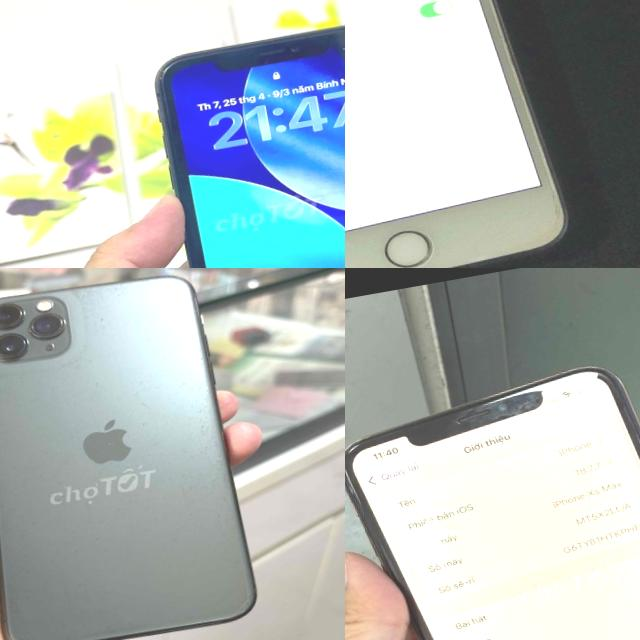gen_11: (0, 268, 265, 640), (148, 10, 345, 268)
gen_7_8: (345, 0, 586, 268)
gen_x_xs: (345, 350, 640, 640)
scratch: (183, 355, 262, 615), (58, 274, 112, 378), (166, 416, 210, 540), (0, 346, 99, 388), (94, 268, 184, 303), (536, 171, 568, 225), (128, 376, 156, 428), (88, 532, 105, 548)
